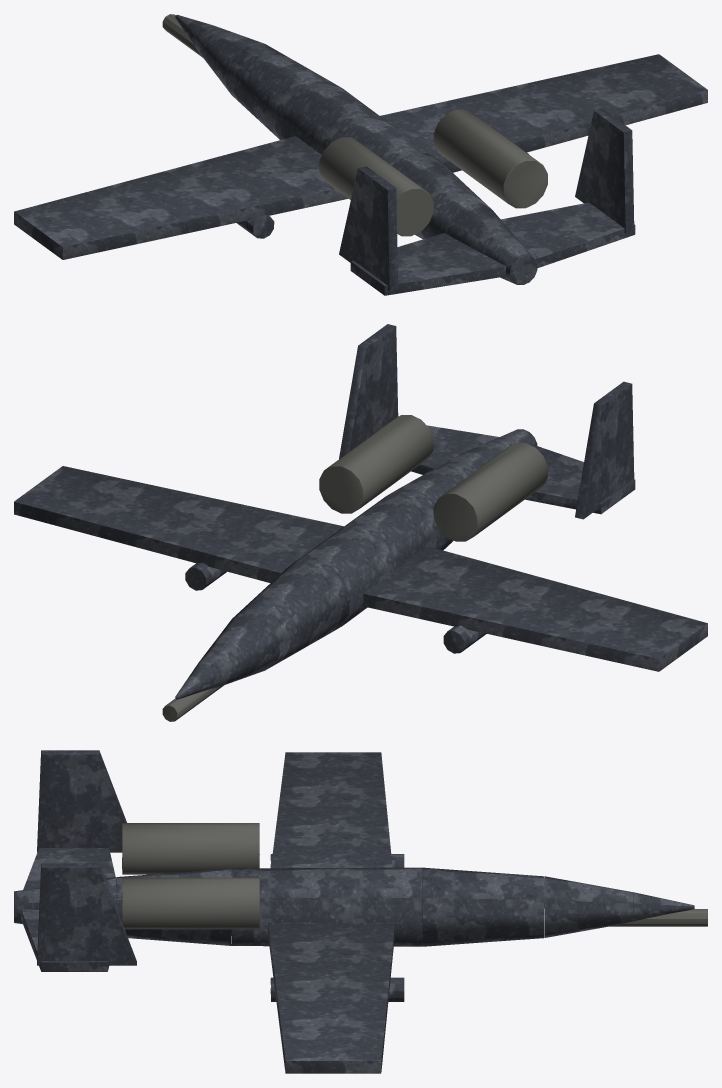
File: air_e1_us_cas_LOD1.glb
3 views of the same model, one above another, from view 1: azimuth 30°, elevation 25°; view 2: azimuth 150°, elevation 25°; view 3: azimuth 270°, elevation 25° (orthographic).
Parts seen in each view (by area): view 1: air_e1_us_cas_LOD1_body, air_e1_us_cas_LOD1_gun; view 2: air_e1_us_cas_LOD1_body, air_e1_us_cas_LOD1_gun; view 3: air_e1_us_cas_LOD1_body, air_e1_us_cas_LOD1_gun.
Boxes of the visible parts, x1=… form: air_e1_us_cas_LOD1_body: x1=14, y1=14, x2=707, y2=295; air_e1_us_cas_LOD1_gun: x1=162, y1=14, x2=547, y2=236; air_e1_us_cas_LOD1_body: x1=14, y1=324, x2=707, y2=699; air_e1_us_cas_LOD1_gun: x1=162, y1=415, x2=547, y2=721; air_e1_us_cas_LOD1_body: x1=14, y1=750, x2=694, y2=1073; air_e1_us_cas_LOD1_gun: x1=122, y1=823, x2=707, y2=929.
Size of the model in its own units: 17.5 by 3.55 by 16.62.
3 materials, 1 textured.
